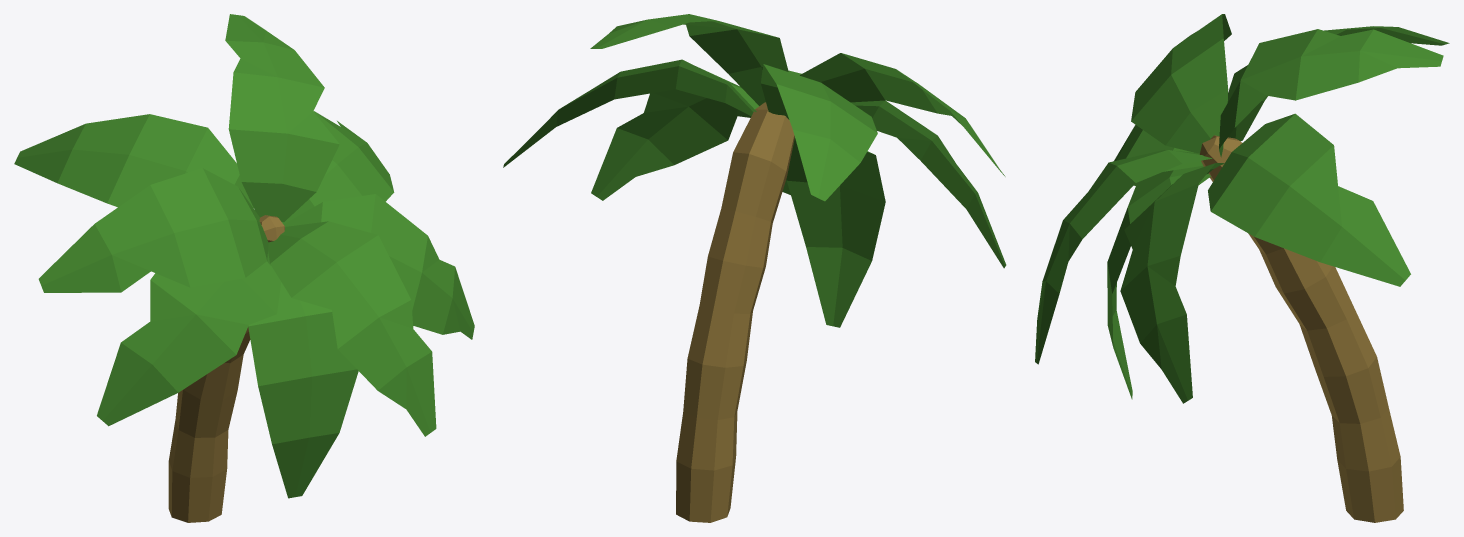
File: PalmTree_3.fbx
3 views of the same model, side by side, from view 1: azimuth 30°, elevation 25°; view 2: azimuth 150°, elevation 25°; view 3: azimuth 270°, elevation 25° (orthographic). The views are drawn at different scales.
Parts seen in each view (by area): view 1: Leaf_2, Leaf_4, Leaf_4.002, Leaf_1.001, Leaf_3, Leaf_1, Trunk, Leaf_4.001, Leaf_2.002, Leaf_4.005, Leaf_4.003, Leaf_1.003 (+5 smaller); view 2: Trunk, Leaf_1.001, Leaf_4.001, Leaf_1, Leaf_4.002, Leaf_2.001, Leaf_2, Leaf_3.001, Leaf_1.003, Leaf_1.002, Leaf_4.004, Leaf_2.003 (+3 smaller); view 3: Leaf_2.001, Trunk, Leaf_4.001, Leaf_4.002, Leaf_2, Leaf_4, Leaf_2.003, Leaf_1.001, Leaf_4.004, Leaf_4.003, Leaf_2.002, Leaf_4.005 (+4 smaller).
Part boxes in pixels (x1,y1,x2,y2): Leaf_2: (39,168,268,292); Leaf_4: (268,221,436,436); Leaf_4.002: (225,14,339,222); Leaf_1.001: (248,282,358,498); Leaf_3: (97,273,276,426); Leaf_1: (14,114,253,208); Trunk: (168,215,284,522); Leaf_4.001: (284,194,474,339); Leaf_2.002: (40,168,267,292); Leaf_4.005: (268,223,435,436); Leaf_4.003: (226,14,337,221); Leaf_1.003: (249,282,354,498); Trunk: (676,102,794,522); Leaf_1.001: (786,138,885,327); Leaf_4.001: (591,67,758,200); Leaf_1: (761,64,877,201); Leaf_4.002: (590,14,788,105); Leaf_2.001: (503,59,756,167); Leaf_2: (800,53,1005,176); Leaf_3.001: (875,100,1006,268); Leaf_1.003: (787,140,884,326); Leaf_1.002: (761,65,875,200); Leaf_4.004: (592,78,758,199); Leaf_2.003: (504,60,754,166); Leaf_2.001: (1208,113,1410,286); Trunk: (1199,135,1403,522); Leaf_4.001: (1120,163,1224,403); Leaf_4.002: (1219,29,1443,157); Leaf_2: (1131,14,1231,153); Leaf_4: (1035,150,1212,364); Leaf_2.003: (1209,114,1410,285); Leaf_1.001: (1107,166,1210,399); Leaf_4.004: (1121,163,1219,402); Leaf_4.003: (1219,29,1442,154); Leaf_2.002: (1132,15,1229,152); Leaf_4.005: (1036,150,1203,363).
Bounding box in the file's own units: 395 × 419 × 317.
